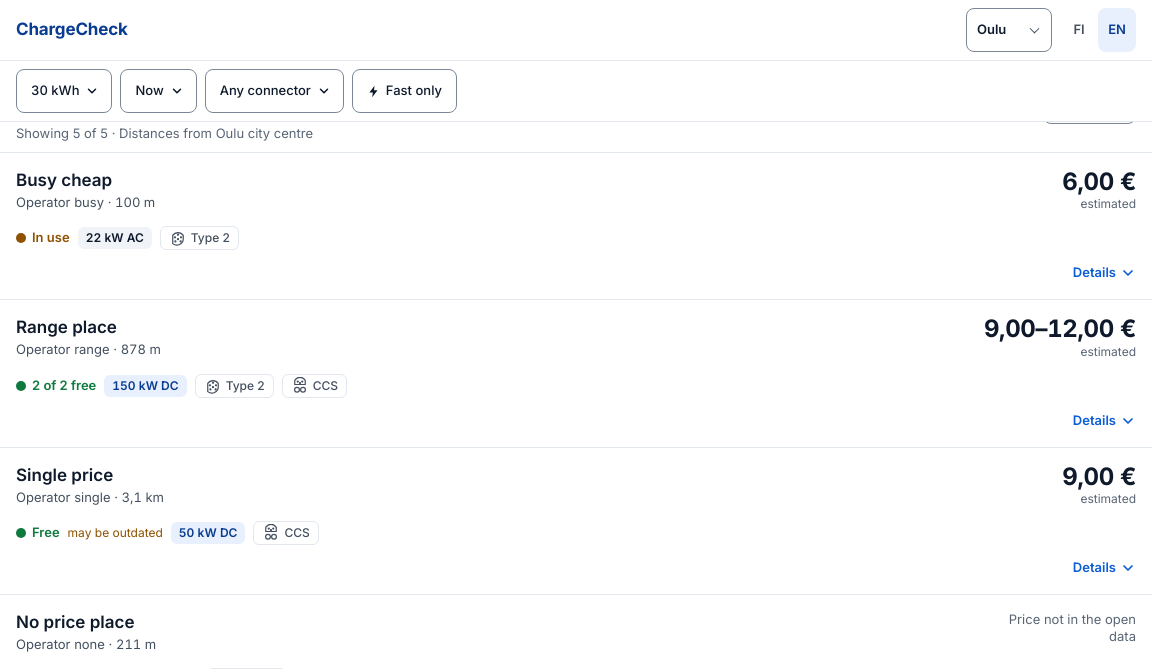
Test: result card states › expands to breakdown, why a range, opening hours and directions
This screenshot has width=1152, height=669.
(page scrolled)
Click the button named "Details: Range place" at [1104, 420], box [1065,398,1144,442]
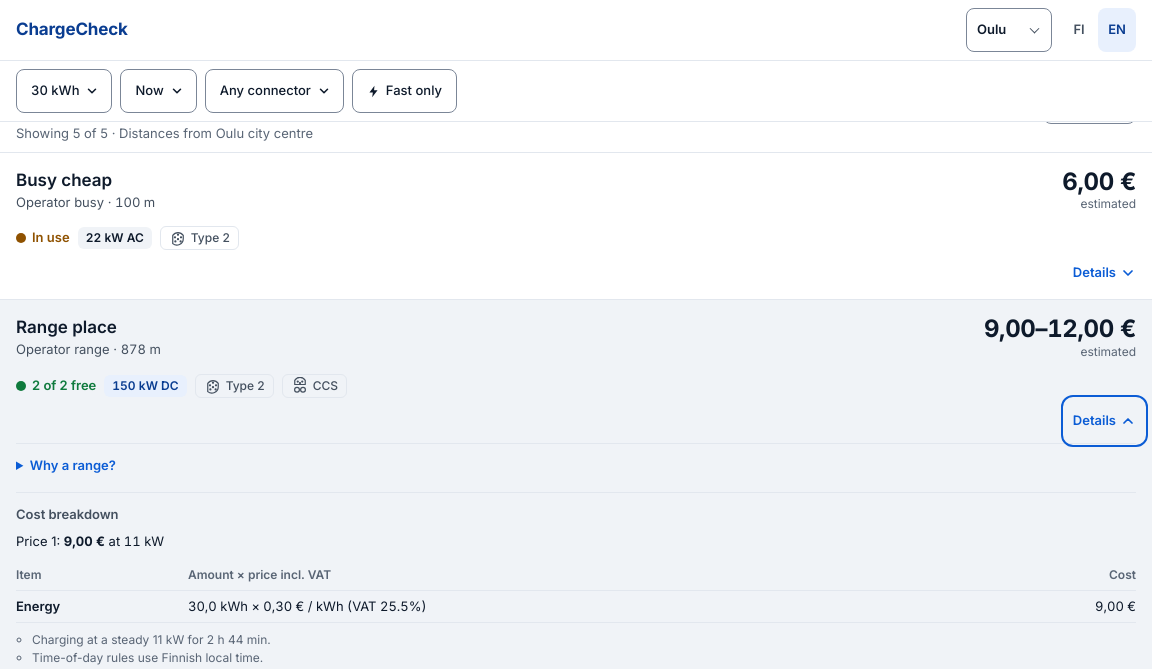
Expected: the button named "Details: Range place" is expanded, [1065,398,1144,442]
Expected: the number of tables is 2
Click the heading "Why a range?" at [73, 464], box [30,456,116,472]
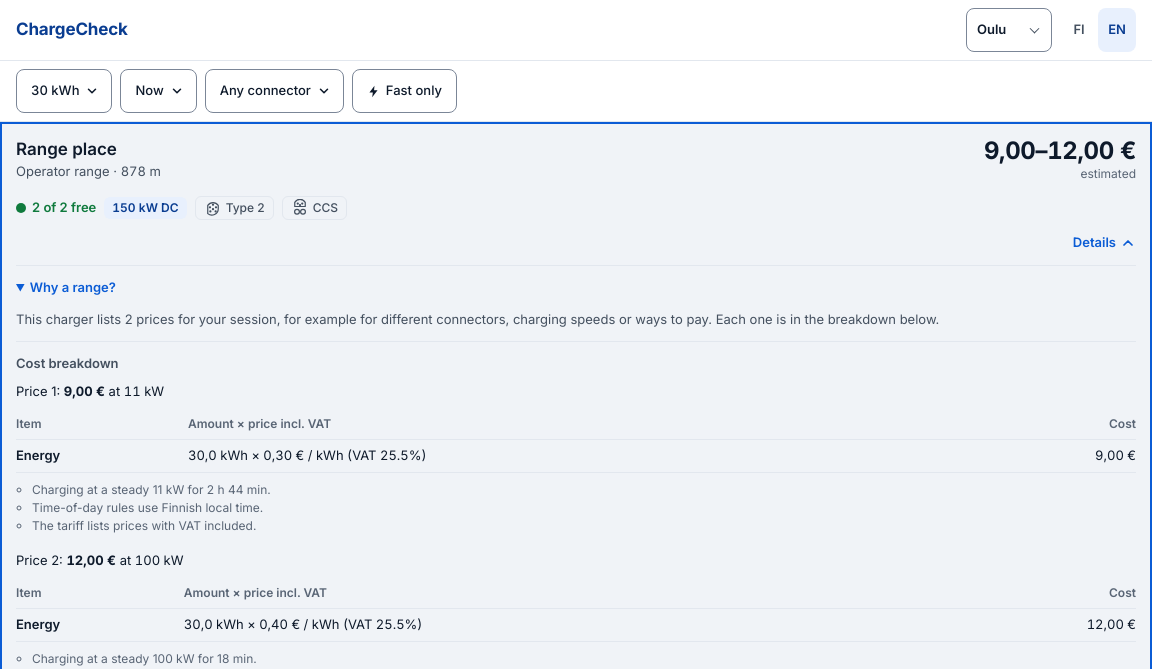
Expected: the element "Range place" shows "This charger lists 2 prices for your session", [16,310,939,326]
Click the button named "Details: Range place" at [1104, 242], box [1065,220,1144,264]
(page scrolled)
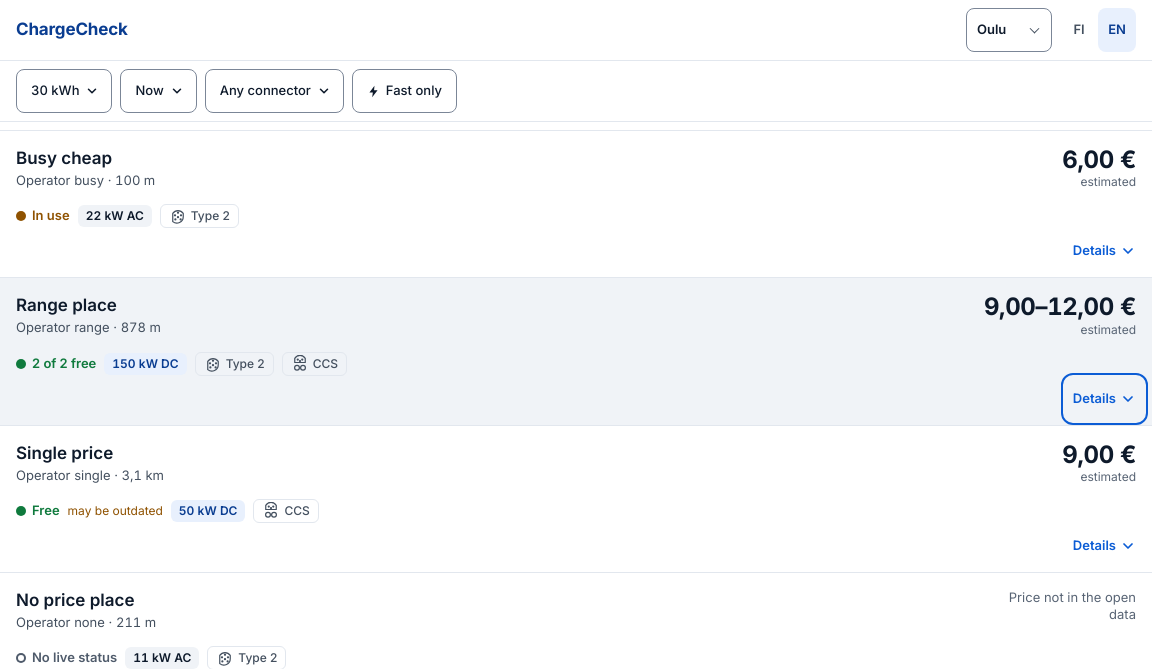
Expected: the button named "Details: Range place" is collapsed, [1065,376,1144,420]
